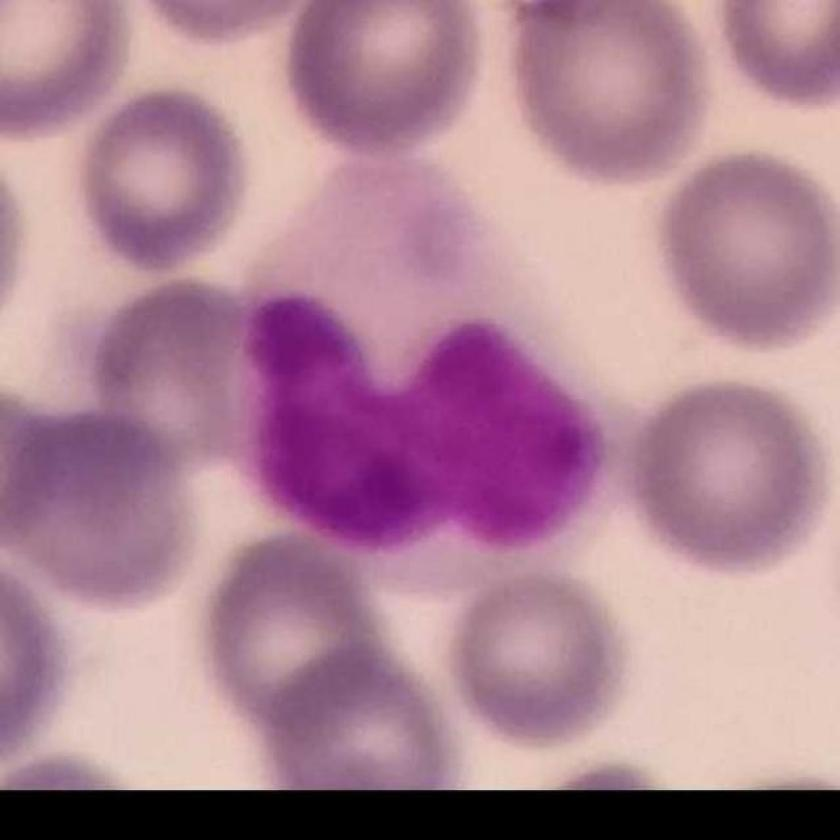monocyte: (227, 142, 653, 609)
